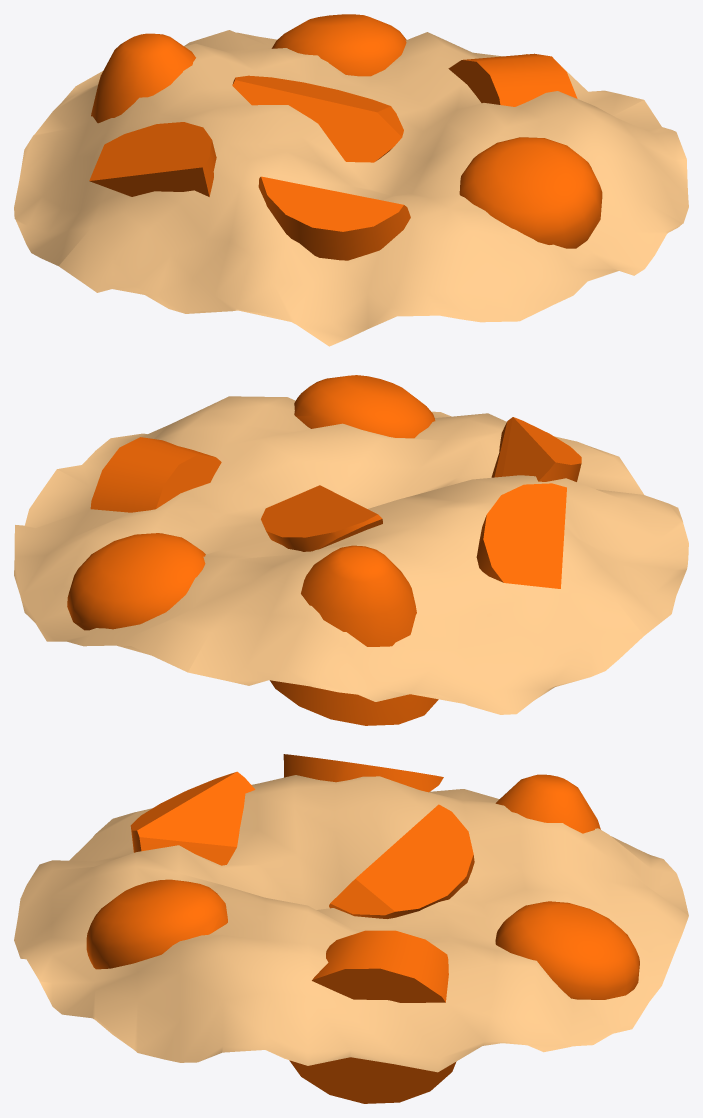
The model's file is SM_Flour-Carrot-Milk.fbx.
3 renders of one model, top to bottom at view 1: azimuth 30°, elevation 25°; view 2: azimuth 150°, elevation 25°; view 3: azimuth 270°, elevation 25°, orthographic.
Parts seen in each view (by area): view 1: Flour-Carrot-Milk; view 2: Flour-Carrot-Milk; view 3: Flour-Carrot-Milk.
Boxes of the visible parts, x1,y1,x2,y2 form: Flour-Carrot-Milk: (14, 14, 688, 346); Flour-Carrot-Milk: (14, 375, 688, 725); Flour-Carrot-Milk: (14, 754, 688, 1103).
Size of the model in its own units: 98.58 by 30.49 by 98.96.
